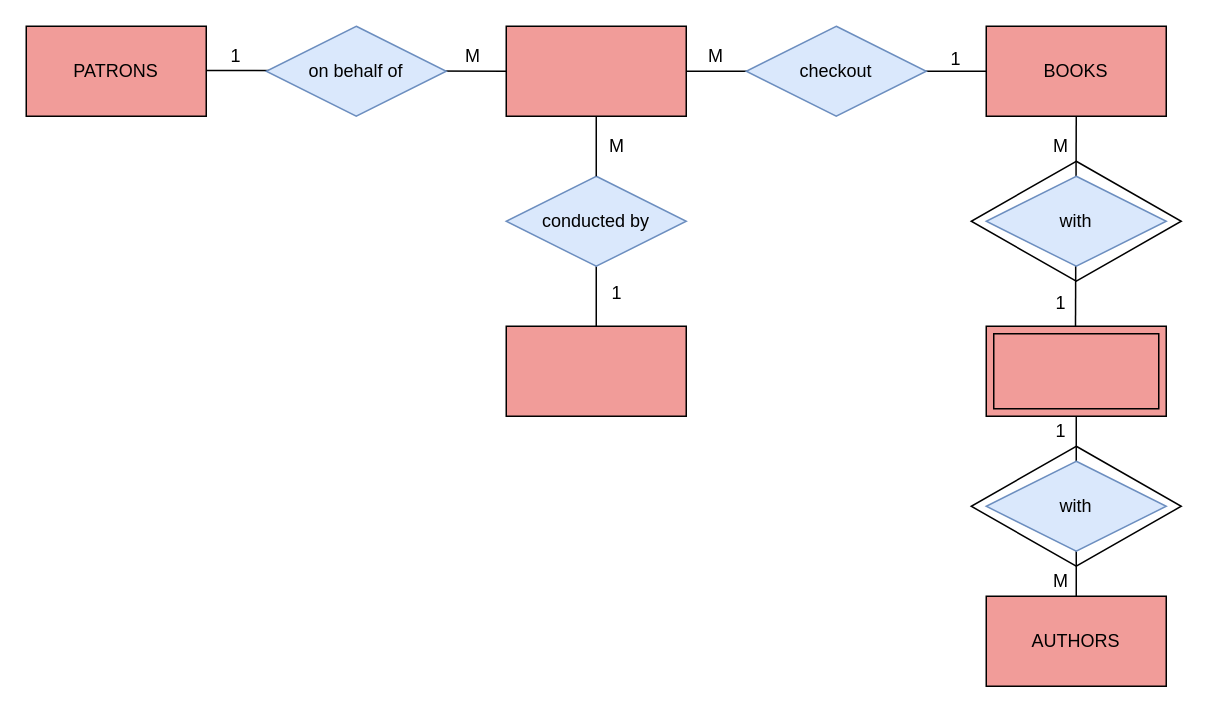
Some shapes in this 1208 by 713 pixel diagram are drawn without their labels. The centre of each missing label's shape, as x and y in pixels:
"AUTHORSHIP" belongs at (x=1075, y=370).
"LIBRARIANS" belongs at (x=595, y=370).
"TRANSACTIONS" belongs at (x=595, y=70).
